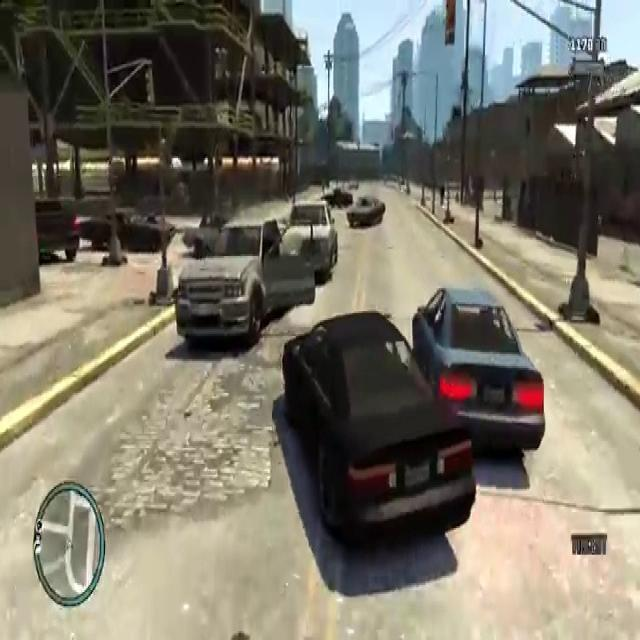moderate: (277, 272, 552, 554)
